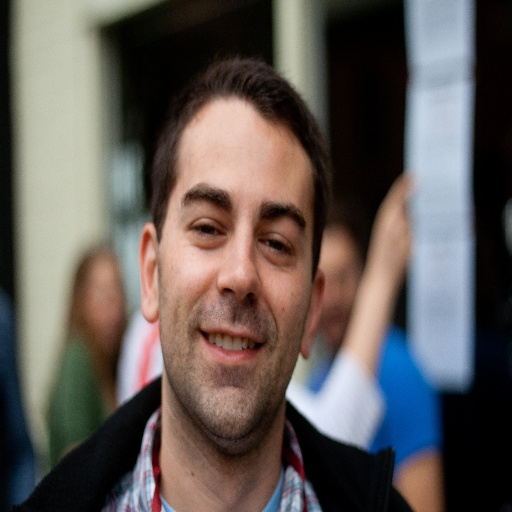hand: (360, 166, 425, 300)
